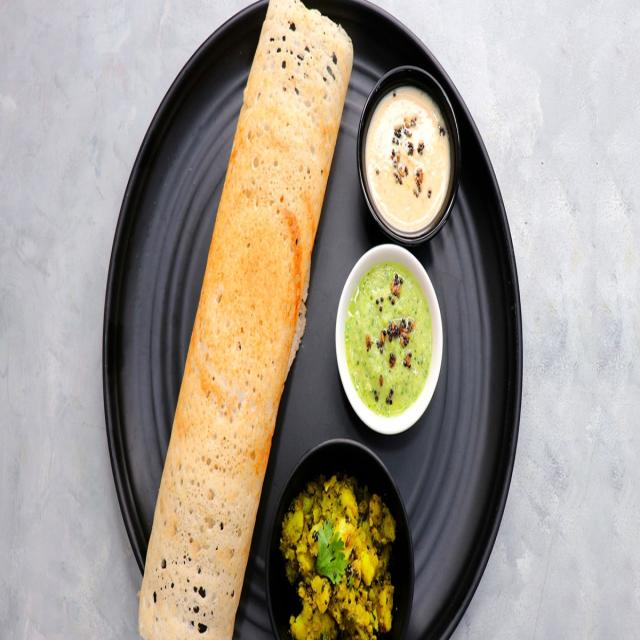plain dosa: (150, 6, 300, 633), (227, 9, 355, 310)
